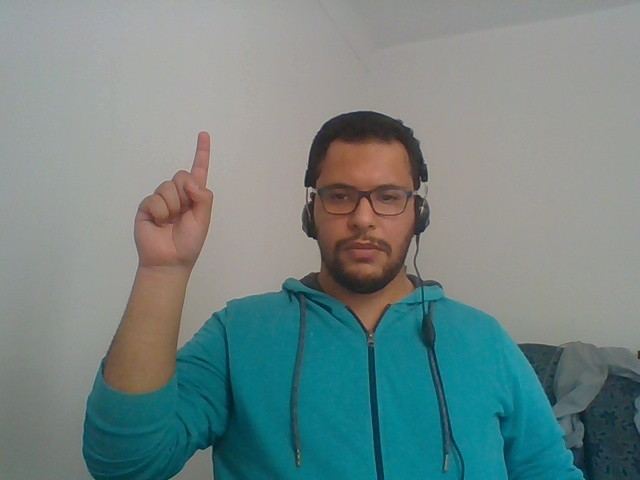handup: (102, 112, 247, 393)
